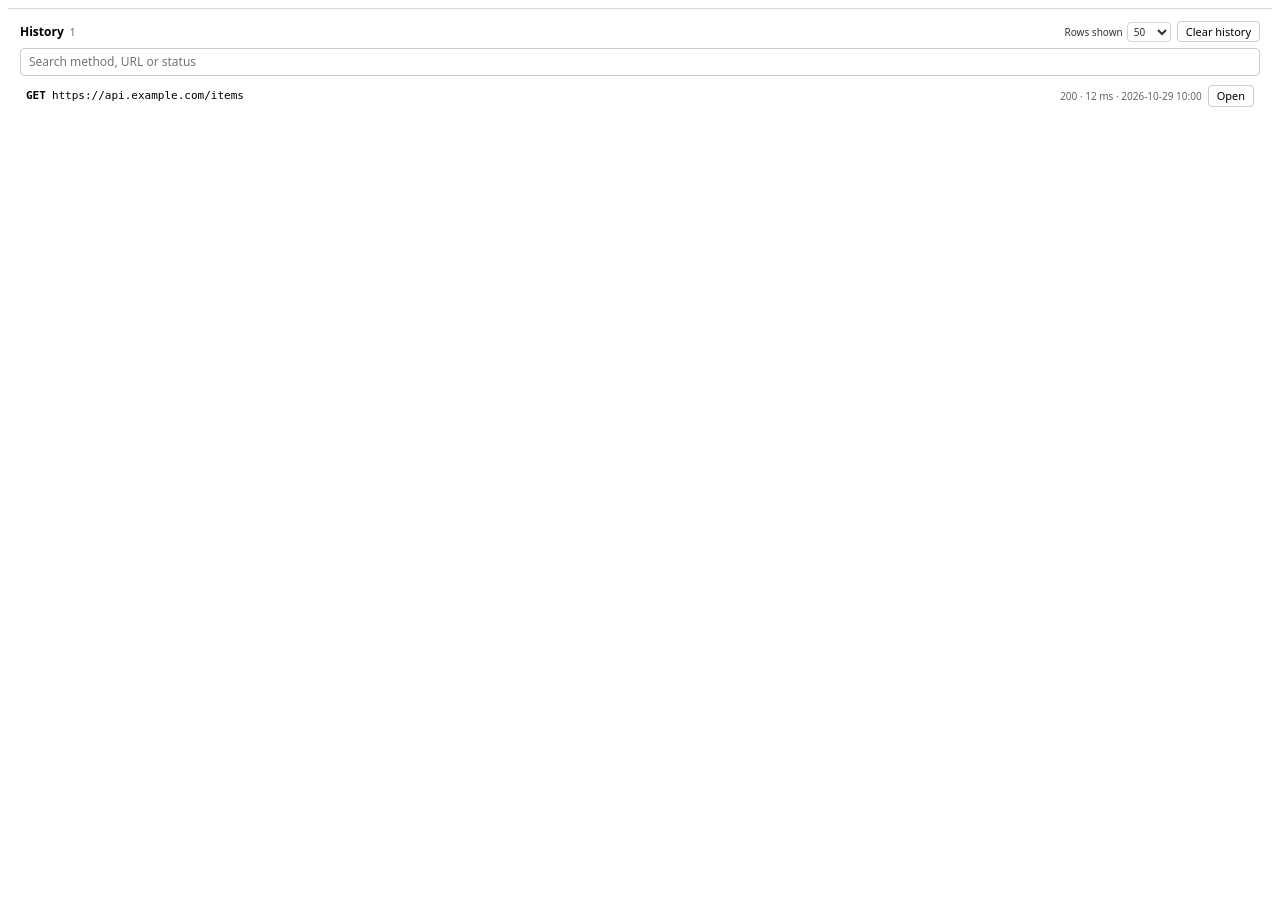
Scenario: HistoryList clear › keeps the dialog open and reports a failed clear
Check: the text "https://api.example.com/items" is shown, box x1=52 y1=89 x2=244 y2=102
Click the button "Clear history" at (1218, 32), box x1=1177 y1=21 x2=1260 y2=42
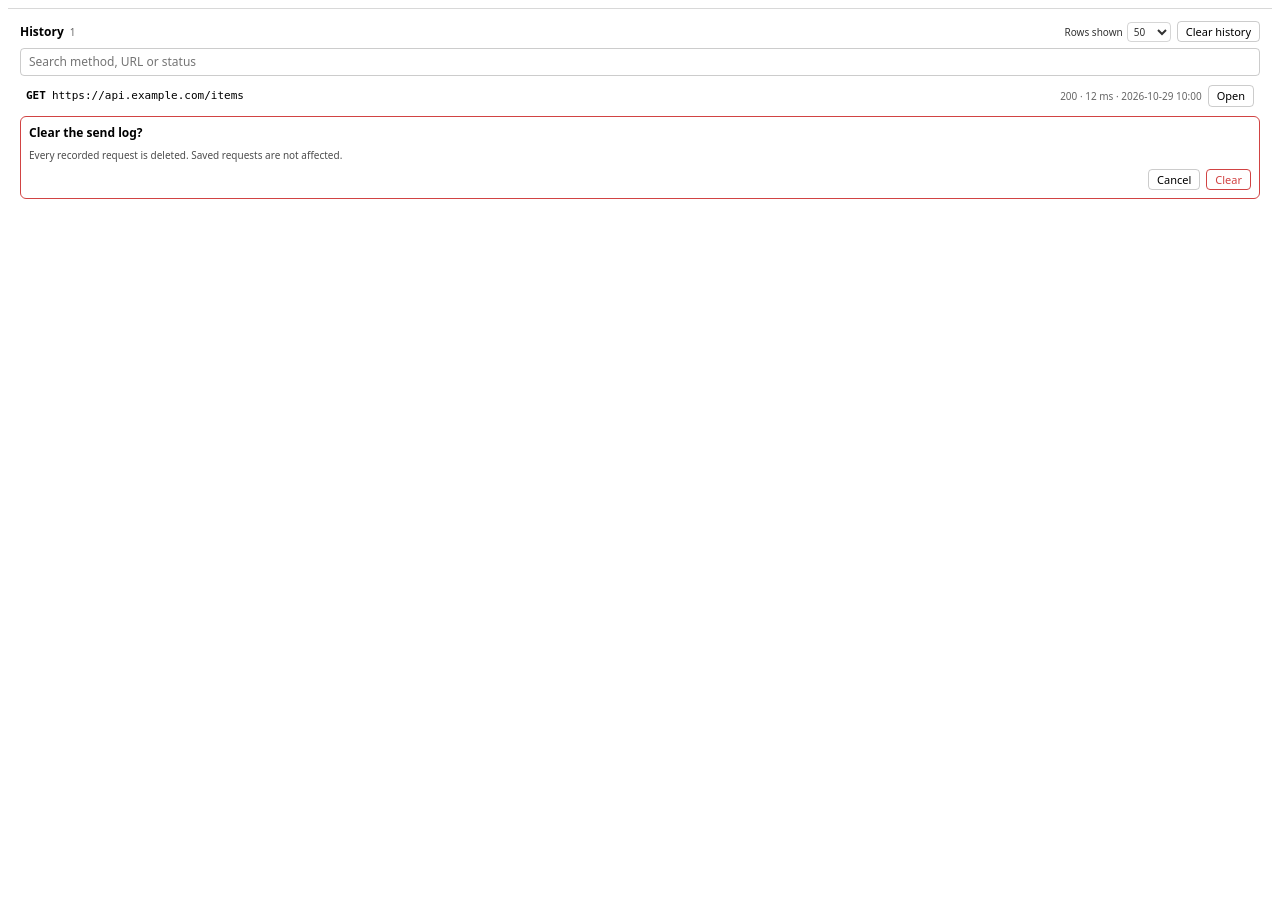
Click the button "Clear" at (1229, 179), box x1=1206 y1=169 x2=1251 y2=190
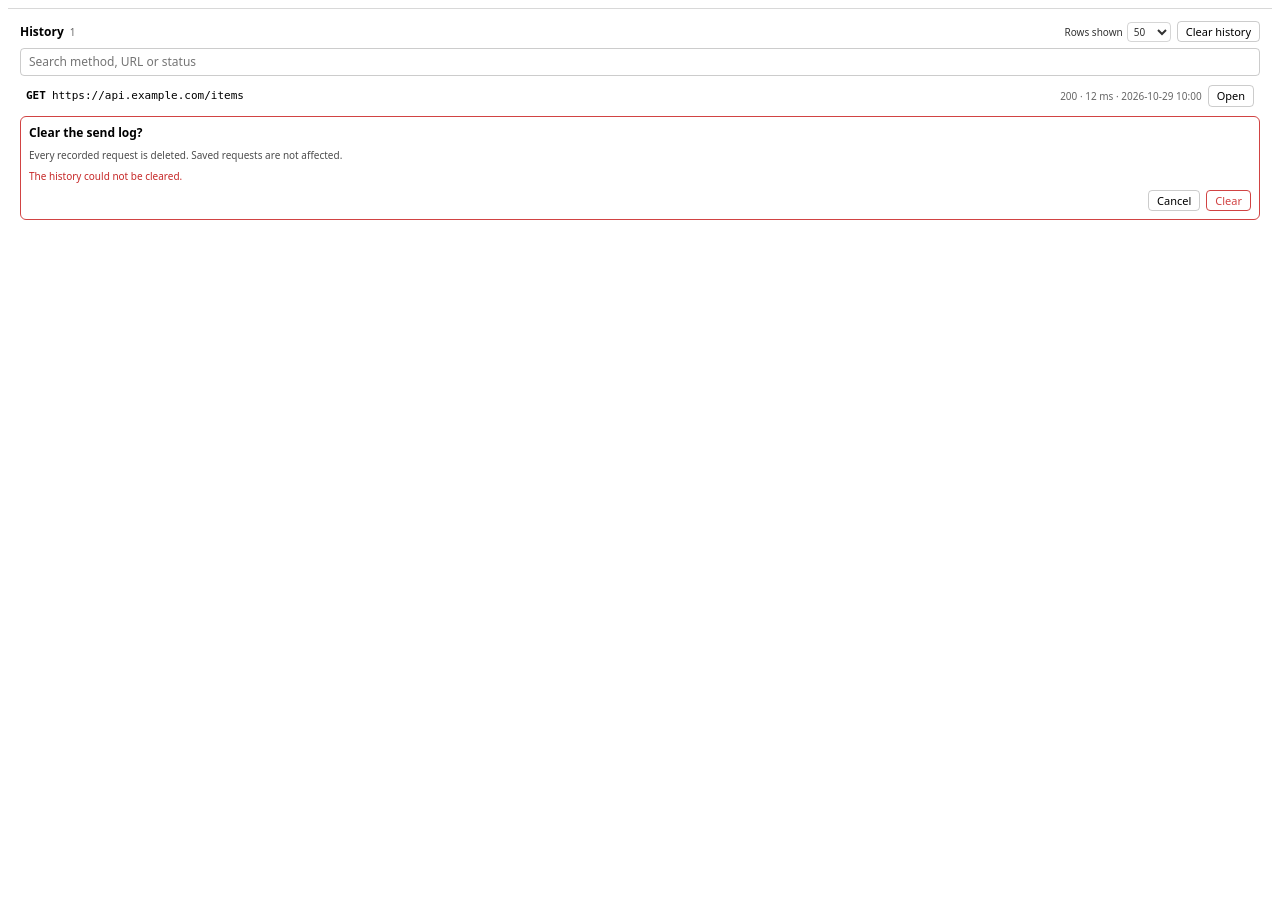
Check: the text "https://api.example.com/items" is shown, box x1=52 y1=89 x2=244 y2=102
Check: the dialog is shown, box x1=20 y1=116 x2=1260 y2=220
Check: the text "The history could not be cleared." is shown, box x1=29 y1=169 x2=182 y2=183
